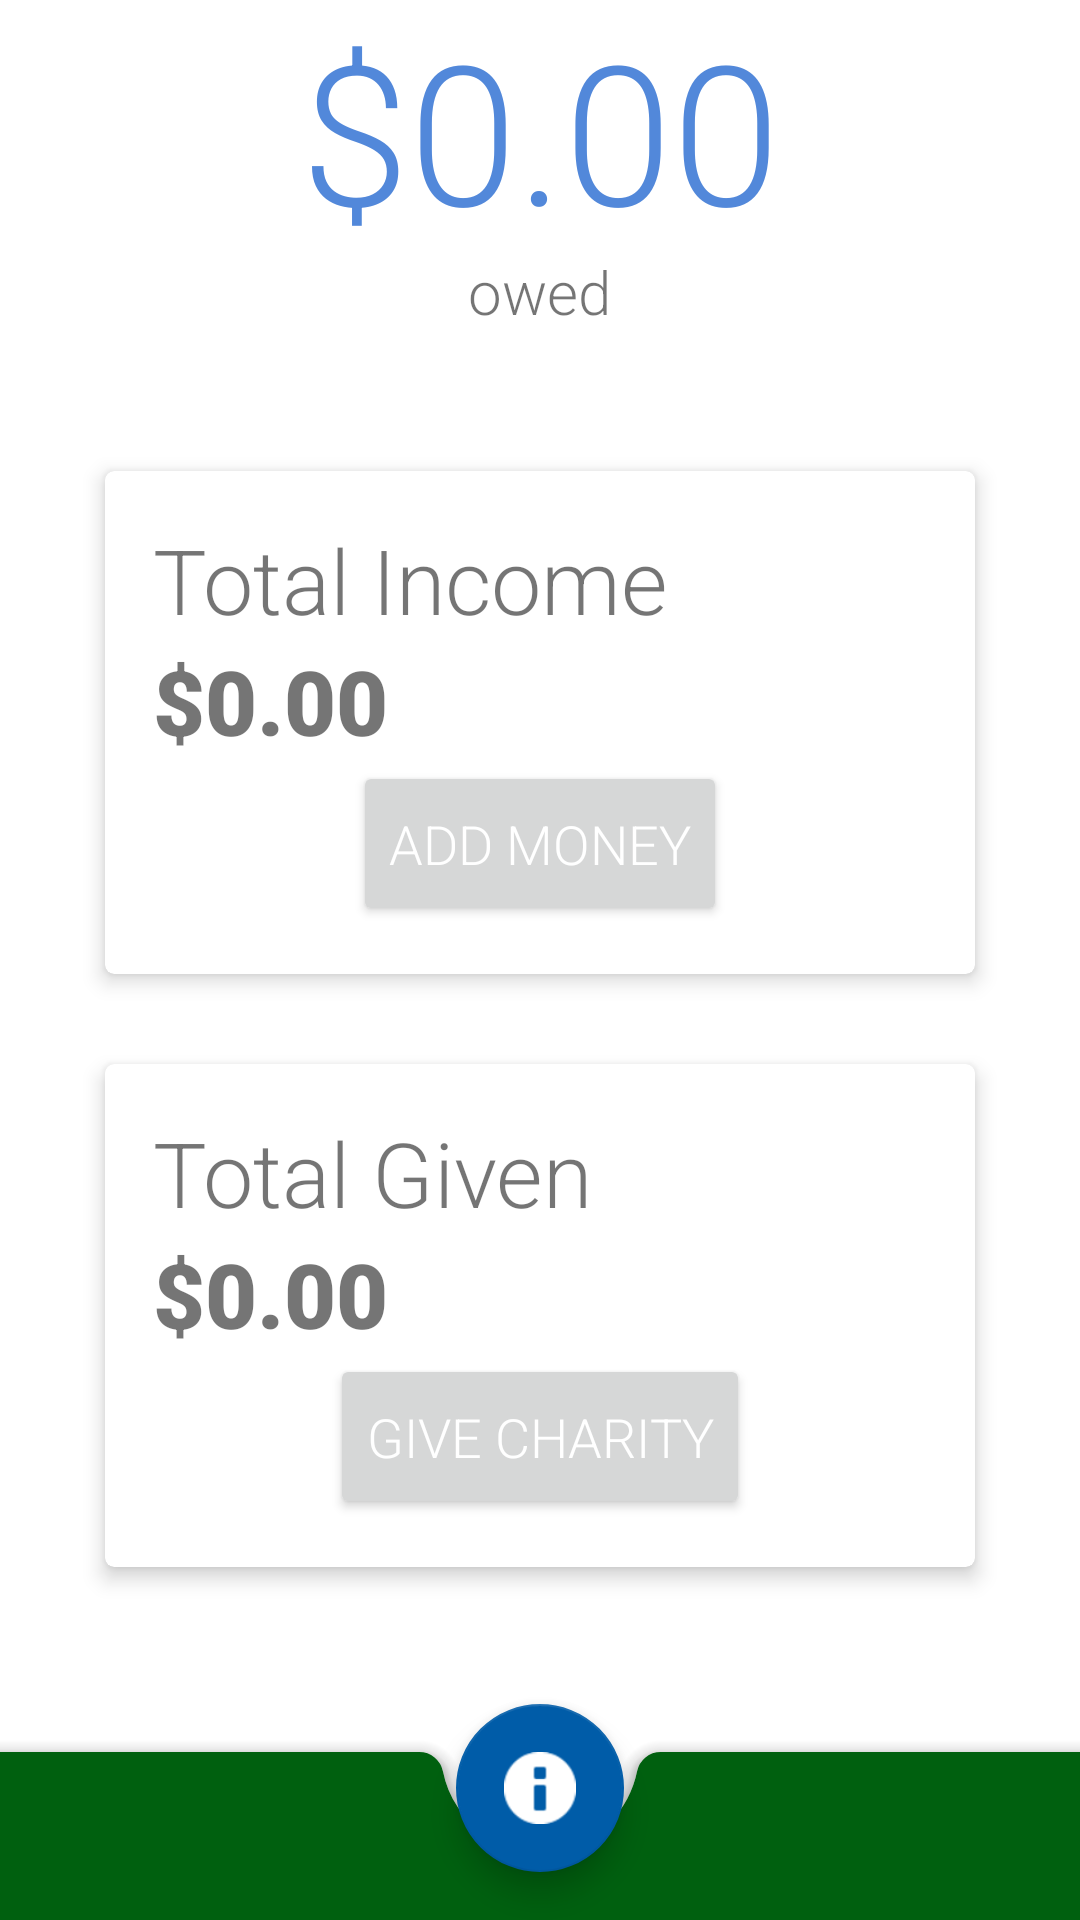

Icon click points for this 1080x1920 phone screenshot, format (x=x, y=y):
info: (x=540, y=1788)
